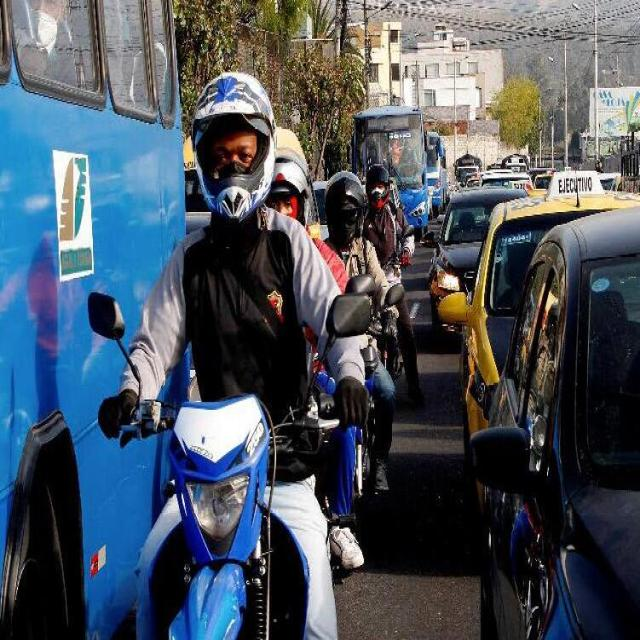MOTORCYCLE: (103, 316, 300, 640)
